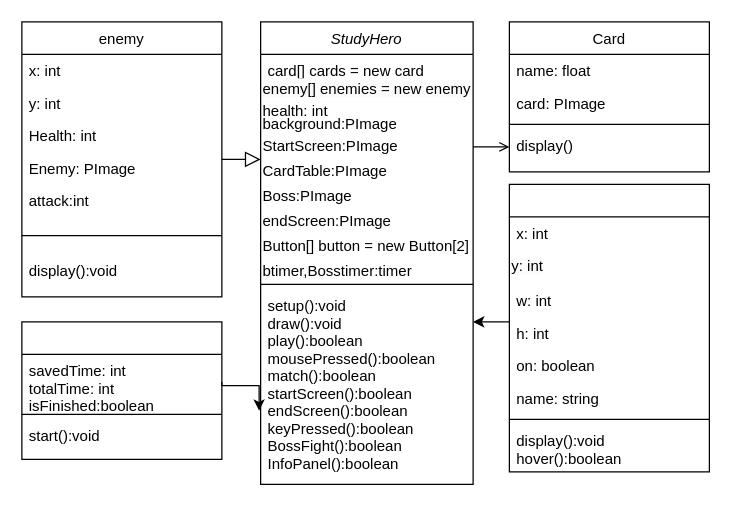
The diagram is 731 pixels wide and 510 high, and some of its shapes have lost their labels. The shapes that lost their labels are listed below. From the top down, each one's box as (x1, y1, x2, y2) in pixels, then its label:
(508, 183, 709, 472): Button
(21, 321, 222, 459): Timer
